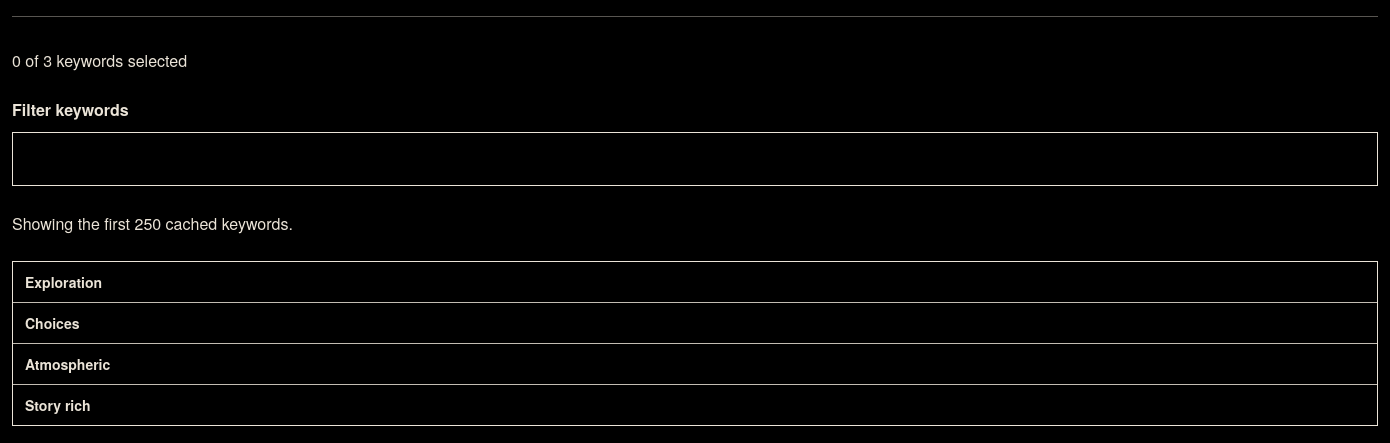
ReferenceKeywordAutocomplete › shows filtered-empty and bounded-list guidance
Check: the list named "Available keywords" is shown, box [12,261,1378,426]
Type "missing" into the search field labelled "Filter keywords". click: (695, 159)
box: [12,132,1378,186]
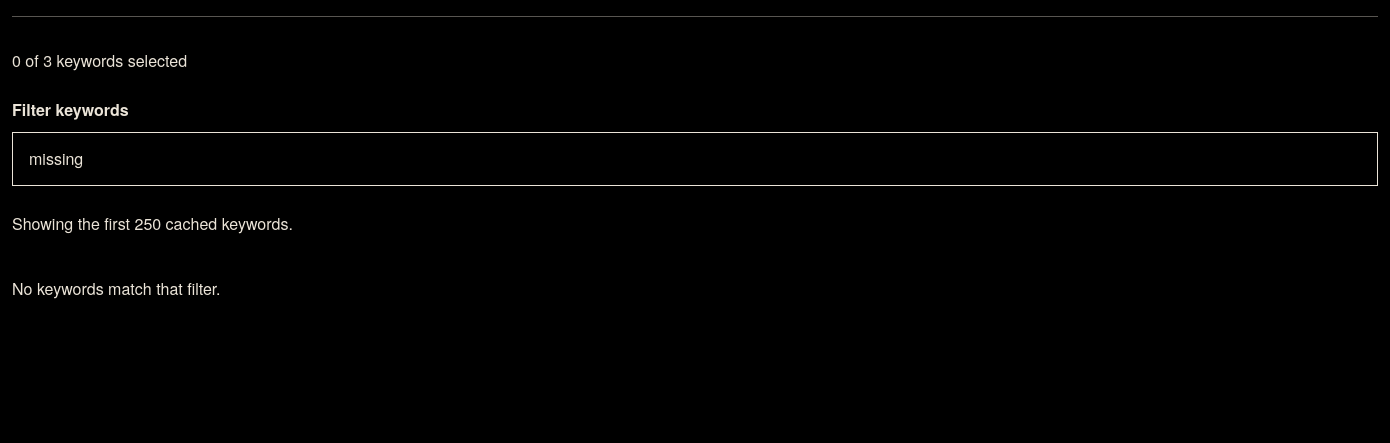
Check: the message "No keywords match that filter." is shown, box [12,277,220,300]
